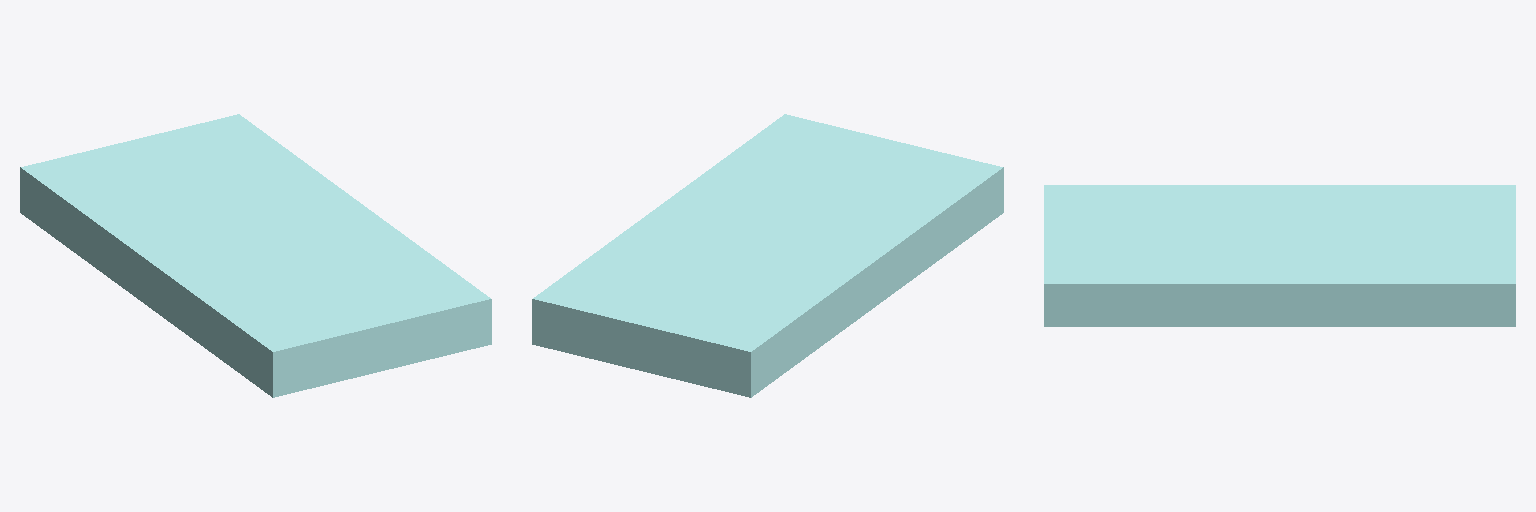
URDF robot description (block_2):
<?xml version="1.0"?>
<robot name="block_2">
  <link name="block_2_base_link">
    <contact>
      <lateral_friction value="1.0"/>
      <spinning_friction value=".001"/>
    </contact>
    <inertial>
      <origin rpy="0 0 0" xyz="0 0 0"/>
      <mass value="0.02"/>
      <inertia ixx="1" ixy="0" ixz="0" iyy="1" iyz="0" izz="1"/>
    </inertial>
    <visual>
      <origin rpy="0 0 0" xyz="0.0 0.0 0.0"/>
      <geometry>
        <box size="1 2 0.2"/>
      </geometry>
      <material name="blockmat">
        <color rgba="0.8 1 1 1"/>
      </material>
    </visual>
    <collision>
      <origin rpy="0 0 0" xyz="0.0 0.0 0.0"/>
      <geometry>
        <box size="1 2 0.2"/>
      </geometry>
    </collision>
  </link>
</robot>

--- Facts derived from the render (not from the file) ---
The picture shows the robot from 3 angles, left to right: view 1: azimuth 30°, elevation 25°; view 2: azimuth 150°, elevation 25°; view 3: azimuth 270°, elevation 25°; orthographic projection.
Robot: block_2 — 1 links, 0 joints (none); root link block_2_base_link; default pose: every joint at zero.
Links seen in each view (by area): view 1: block_2_base_link; view 2: block_2_base_link; view 3: block_2_base_link.
Link boxes in pixels (bbox=[...]): block_2_base_link: bbox=[20, 114, 491, 397]; block_2_base_link: bbox=[532, 114, 1003, 397]; block_2_base_link: bbox=[1044, 185, 1515, 326].
Size in the robot's own frame: 1 by 2 by 0.2 metres.
Geometry: primitives only (box / cylinder / sphere), no mesh files.